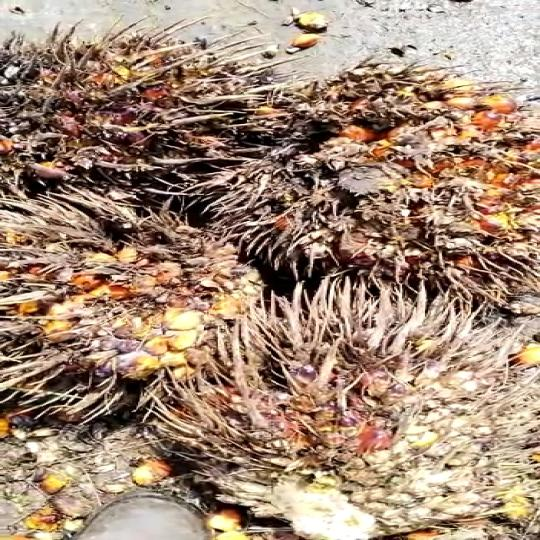terlalu masak: (131, 279, 530, 509), (180, 58, 540, 296), (0, 207, 277, 392)
